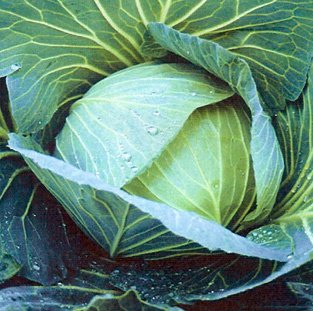cabbage: (2, 2, 312, 310)
